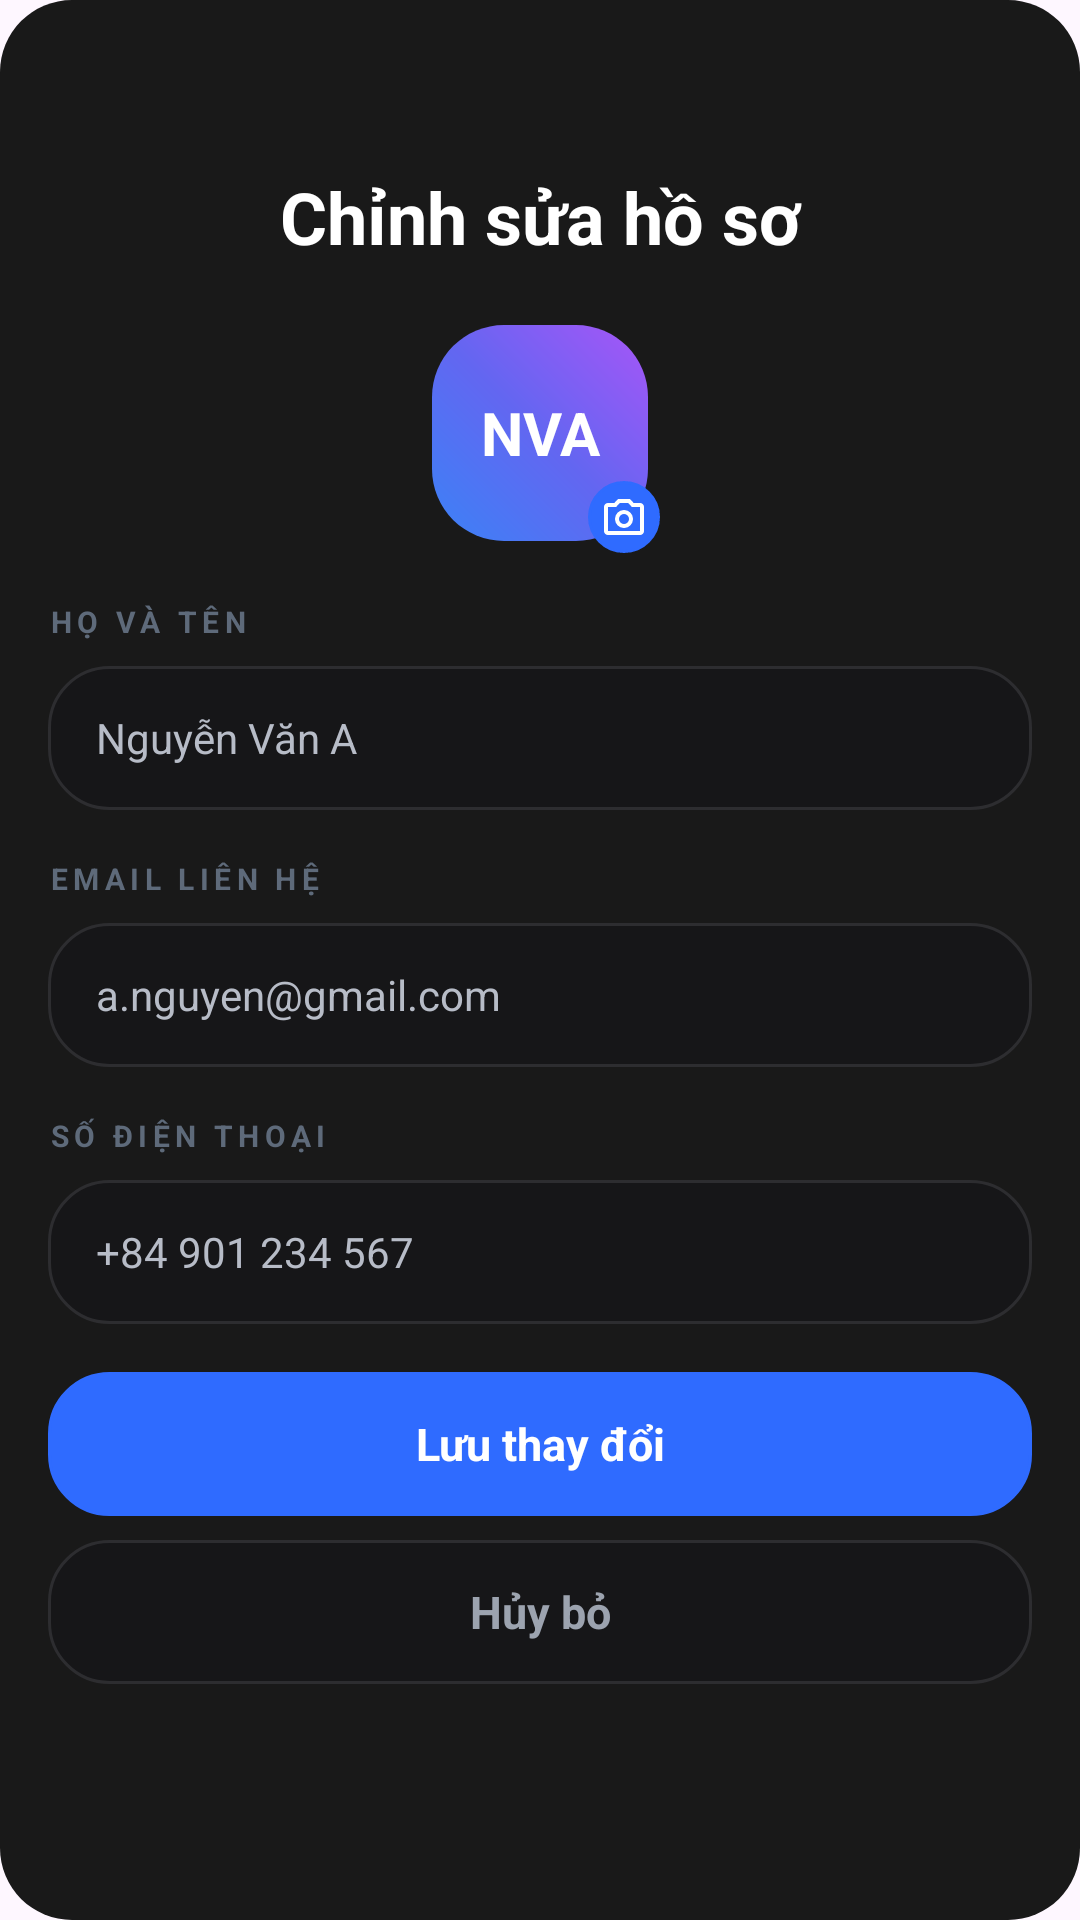

Named icons in this screenshot (1080px×1920px) and their bounding boxes, {"x1": x1, "y1": y1, "x2": x2, "y2": y2}:
Camera: {"x1": 604, "y1": 499, "x2": 644, "y2": 535}
